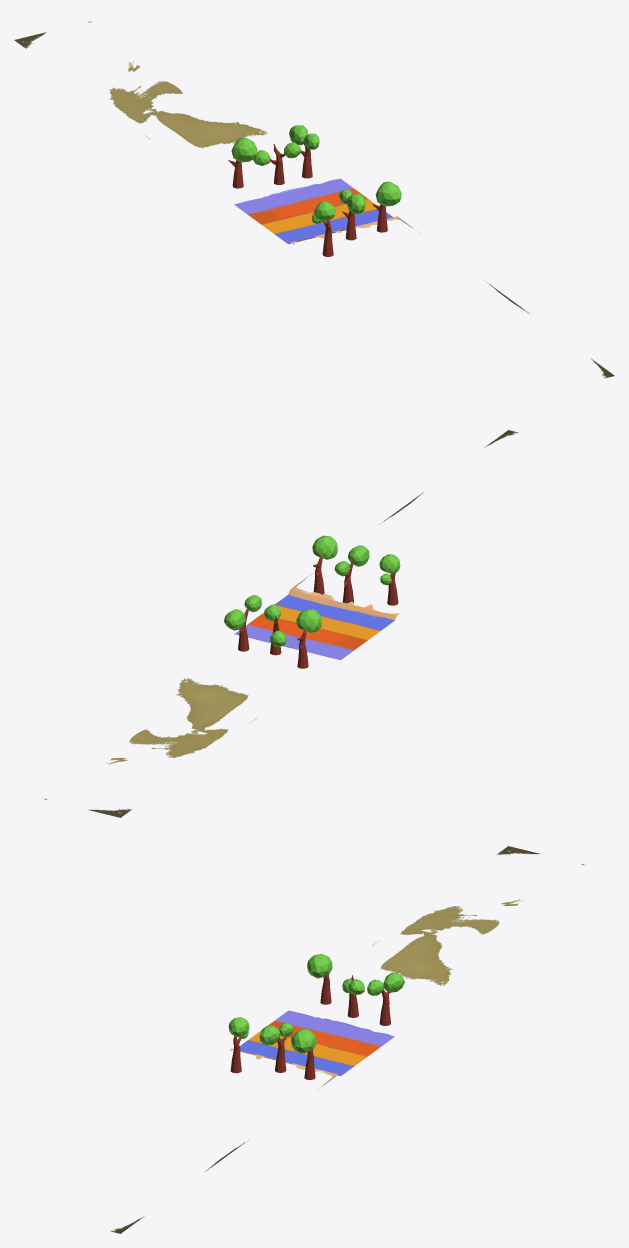
The model's file is forestPieceBreit.fbx.
3 renders of one model, top to bottom at view 1: azimuth 30°, elevation 25°; view 2: azimuth 150°, elevation 25°; view 3: azimuth 330°, elevation 25°, orthographic.
Parts seen in each view (by area): view 1: forestPart; view 2: forestPart; view 3: forestPart.
Boxes of the visible parts, x1=… form: forestPart: x1=14, y1=21, x2=614, y2=378; forestPart: x1=42, y1=430, x2=518, y2=817; forestPart: x1=110, y1=846, x2=586, y2=1233.
Size of the model in its own units: 1675 by 825 by 13453.
